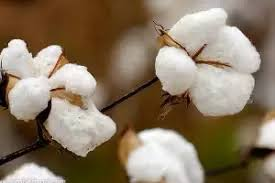cotton: (1, 32, 119, 162), (146, 8, 267, 124)
